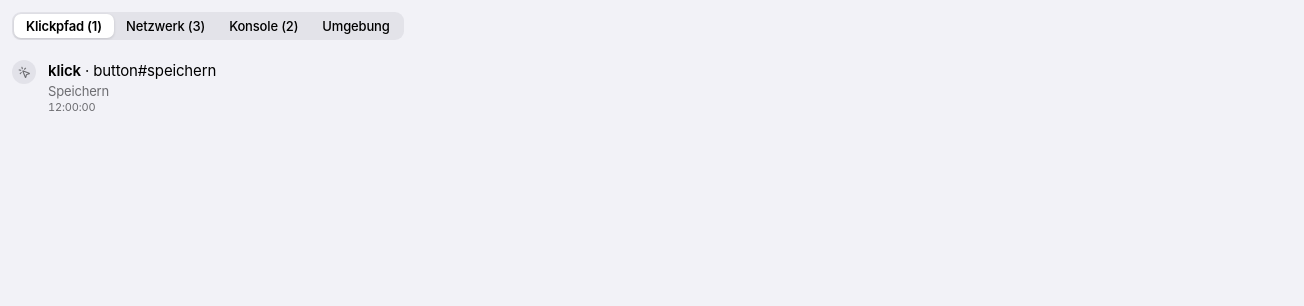
KontextTabs › hebt fehlgeschlagene Requests (status >= 400 oder fehler) hervor und klappt Details auf
This screenshot has width=1304, height=306.
Click the button "Netzwerk (3)": point(166, 26) [114,14,217,38]
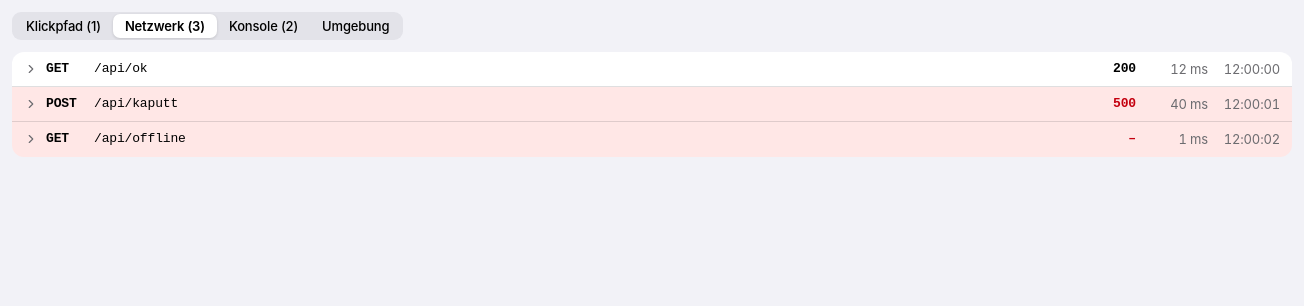
Expected: the text "{\"detail\":\"boom\"}" is not shown
Click the button "POST /api/kaputt 500 40 ms 12:00:01": point(61, 104) [12,87,1292,121]
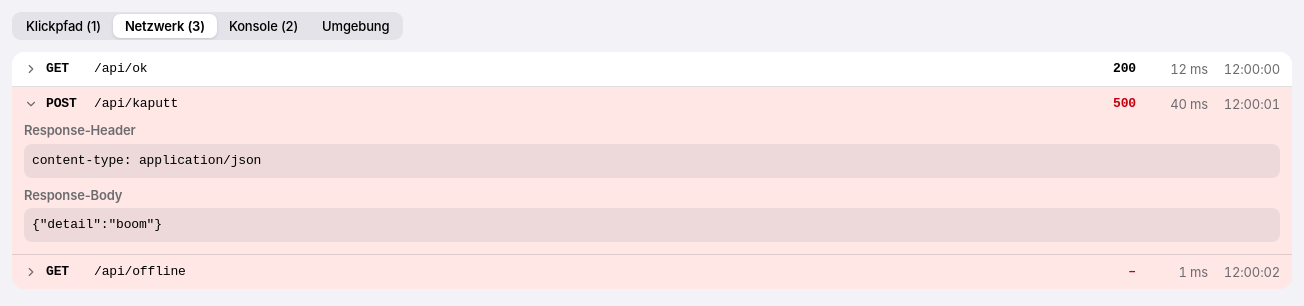
Expected: the text "{\"detail\":\"boom\"}" is shown, [24,208,1280,242]
Expected: the text "content-type: application/json" is shown, [24,144,1280,178]
